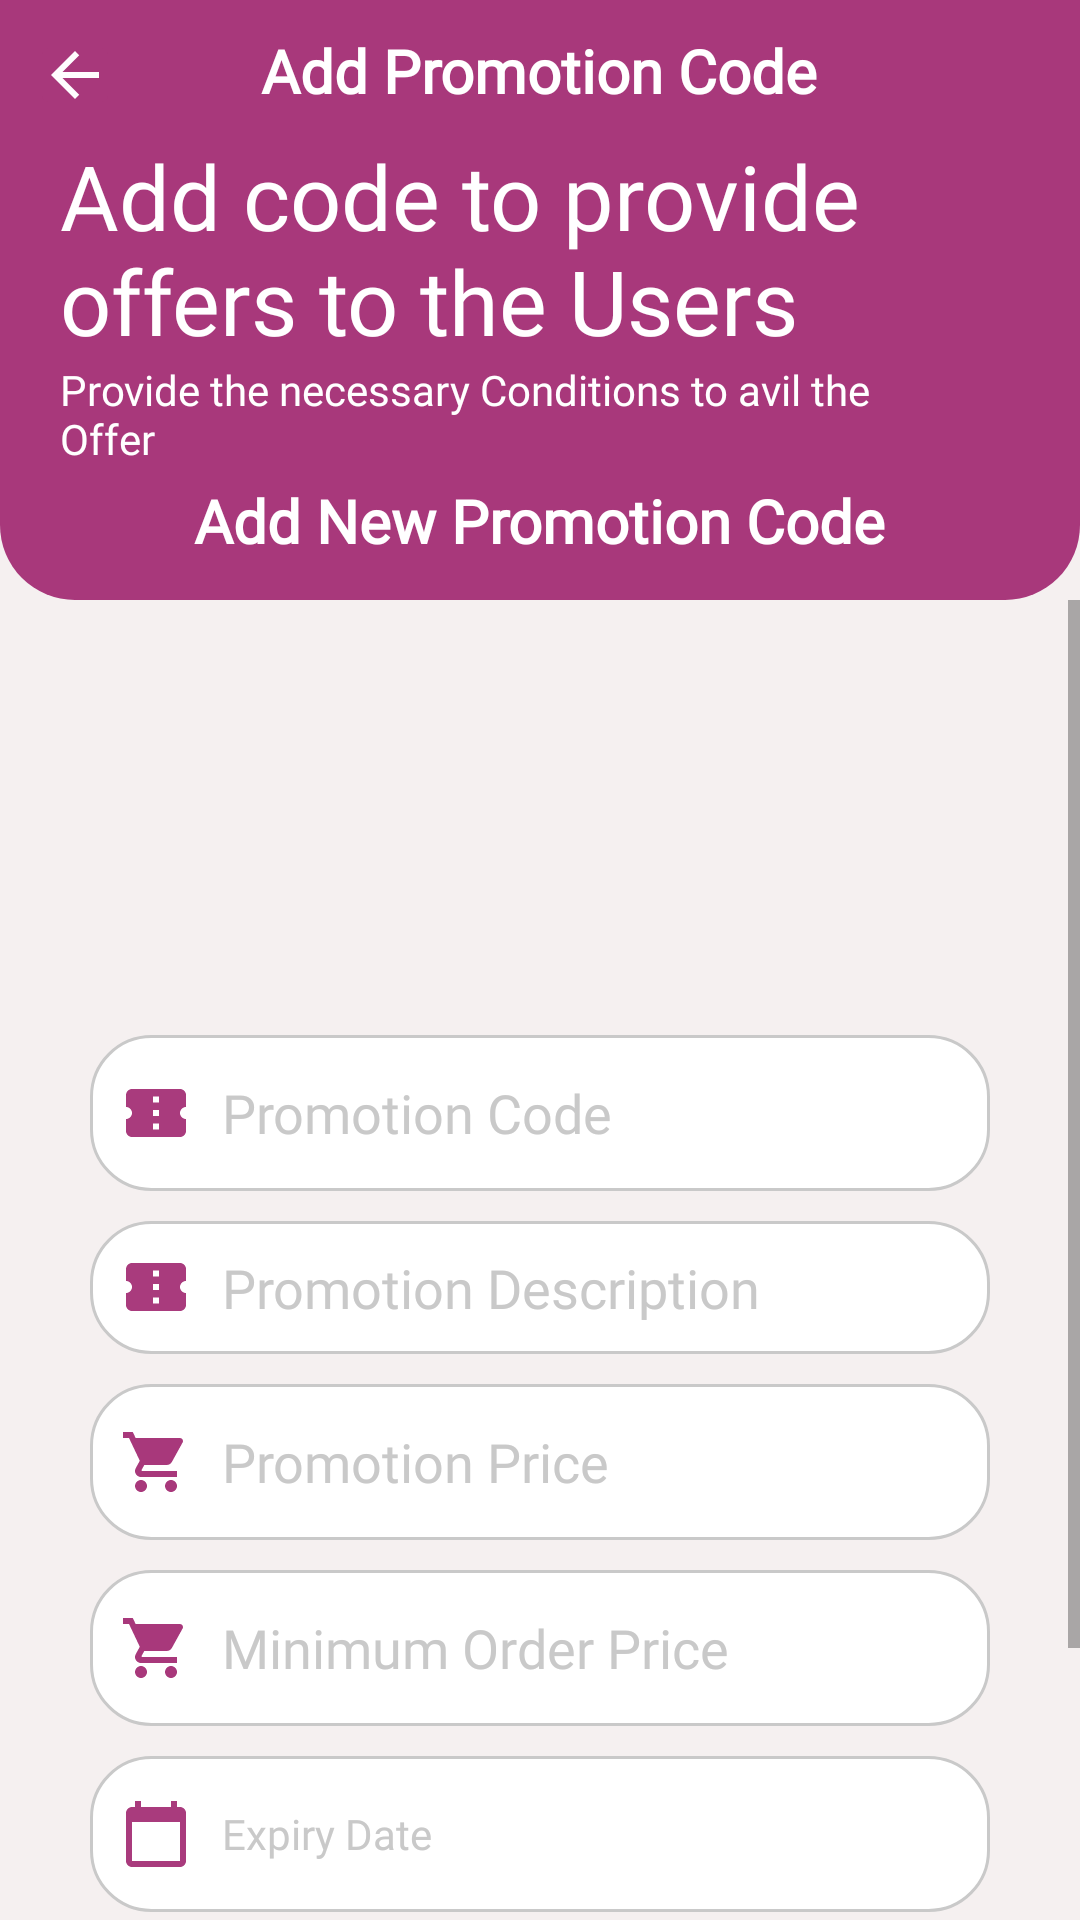

Icons on this 1080px x 1920px Android screen, each with its box as [x1=x1, y1=y1, x2=x2, y2=y2]:
back: [x1=51, y1=51, x2=99, y2=99]
